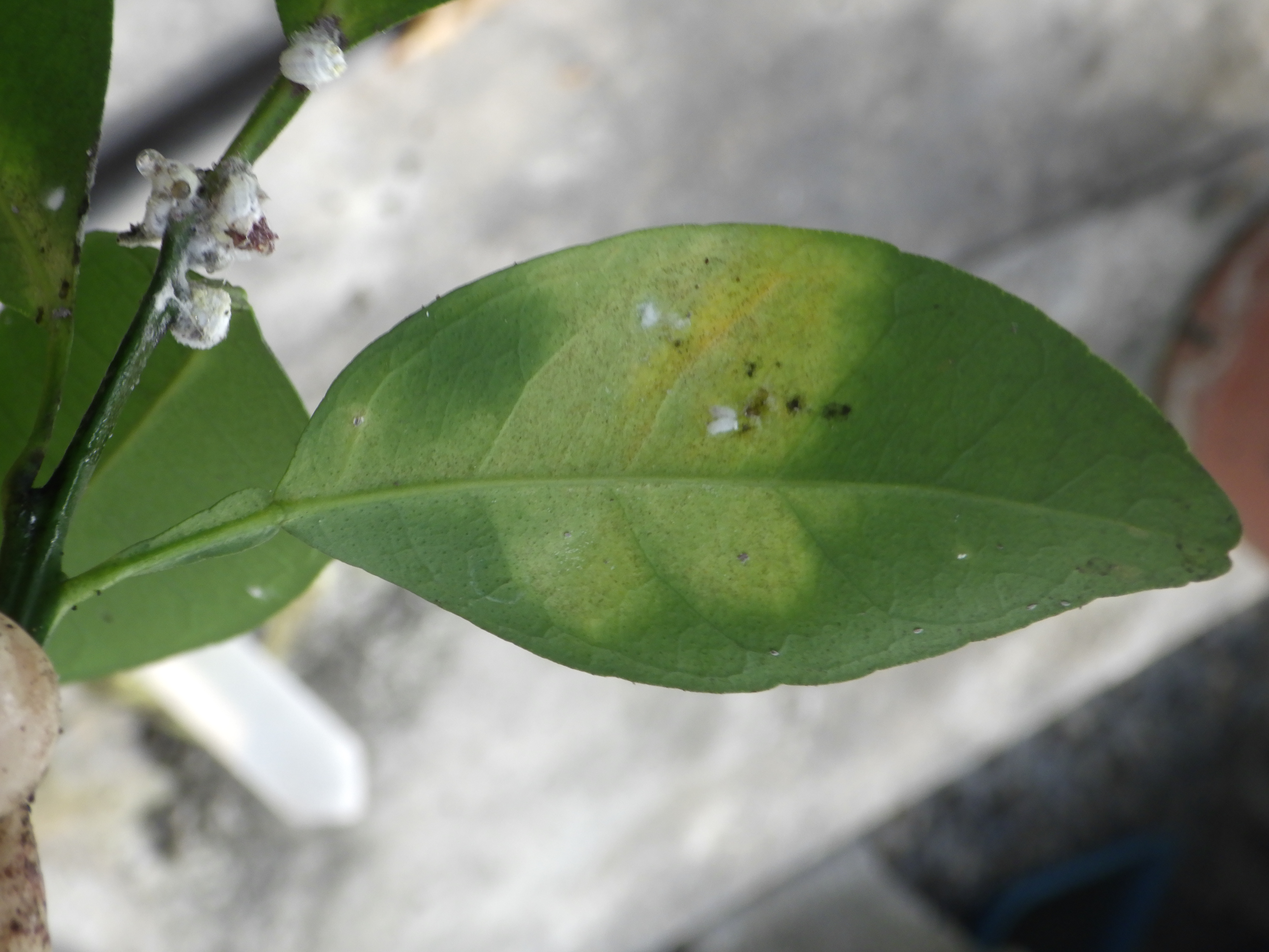Scale_Insect: (124, 149, 200, 245), (210, 159, 275, 254), (279, 21, 346, 91), (170, 284, 232, 349)
